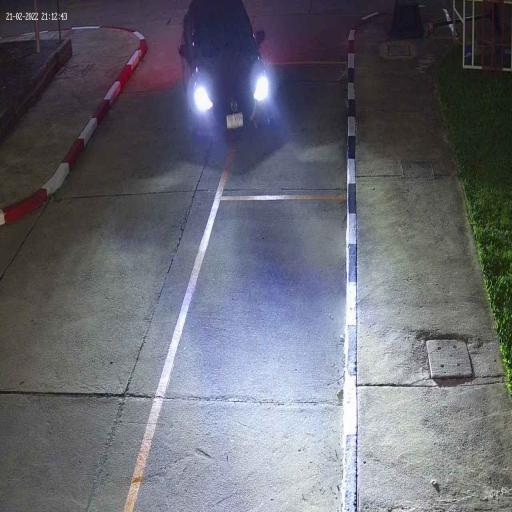car: (180, 0, 270, 146)
